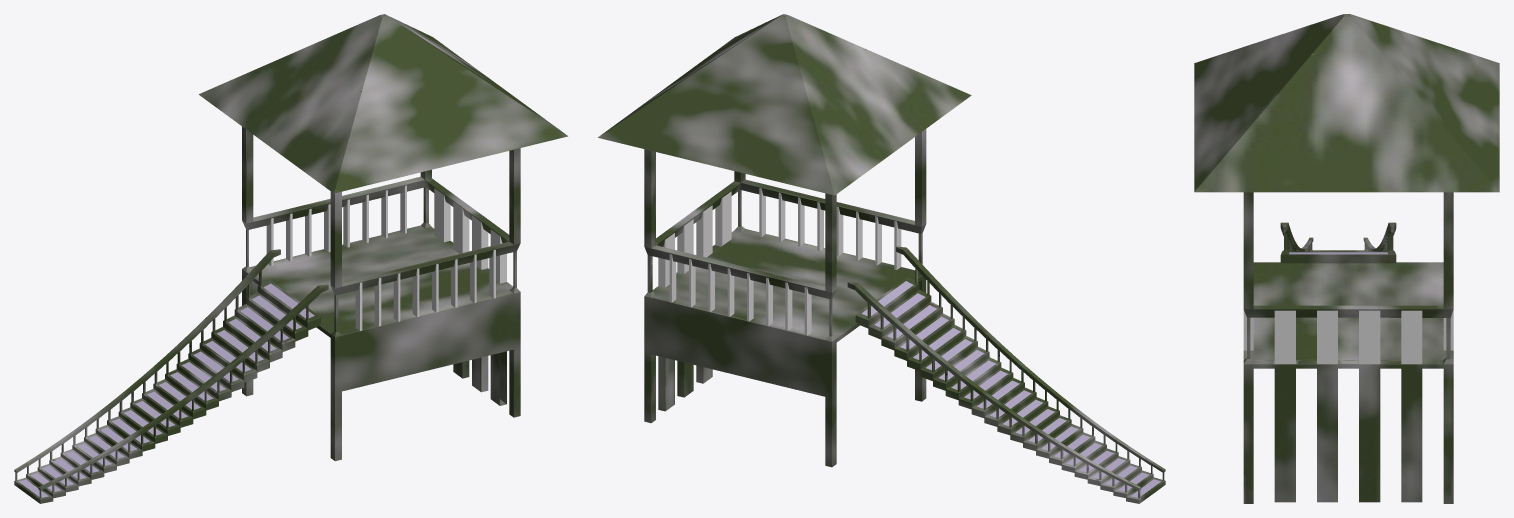
The model's file is TOWER.fbx.
The picture shows the model from 3 angles, left to right: view 1: azimuth 30°, elevation 25°; view 2: azimuth 150°, elevation 25°; view 3: azimuth 270°, elevation 25°; orthographic projection. The views are drawn at different scales.
Visible parts, largest first — view 1: Cube.003; view 2: Cube.003; view 3: Cube.003.
Boxes of the visible parts, x1,y1,x2,y2 form: Cube.003: [14, 14, 567, 503]; Cube.003: [598, 14, 1165, 503]; Cube.003: [1194, 14, 1499, 503].
Size of the model in its own units: 2347 by 1828 by 1154.
Materials: 3 (1 with a texture image).
